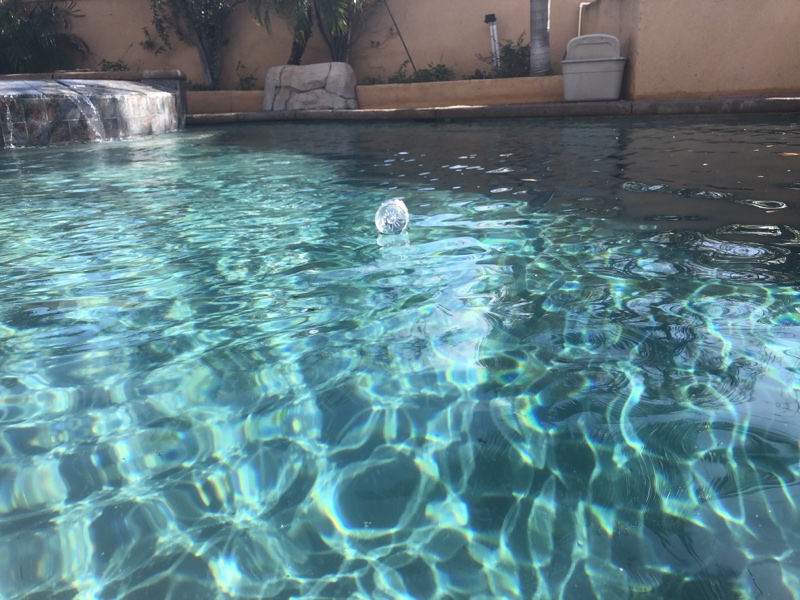Plastic Bottle: (371, 193, 415, 239)
